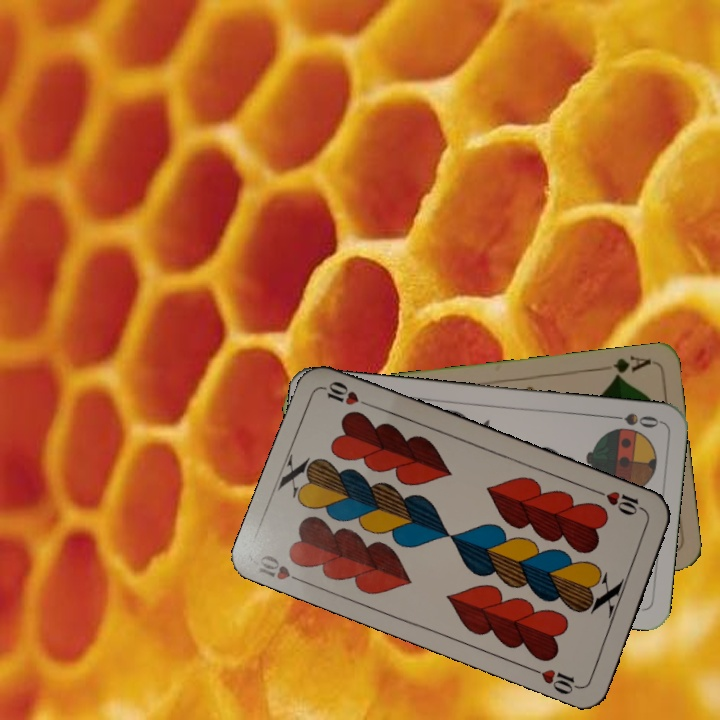GA: (595, 352, 654, 382)
H10: (254, 550, 310, 588), (592, 486, 649, 518)
SO: (603, 409, 661, 430)
